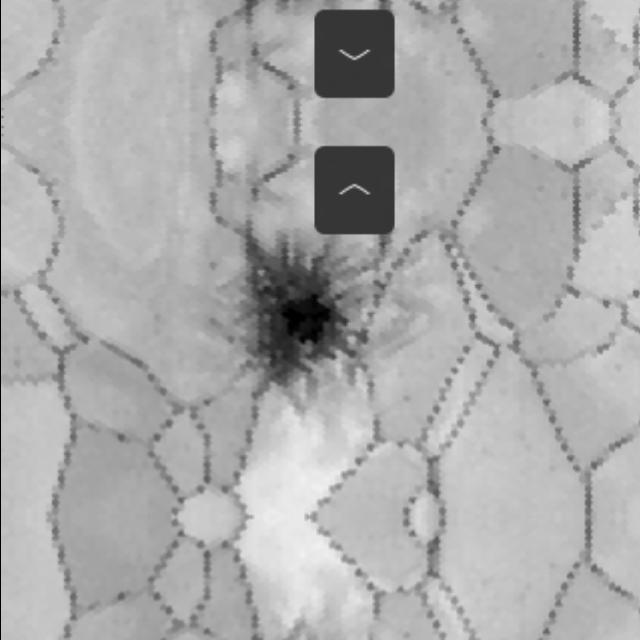good_void: (161, 181, 422, 442), (397, 391, 413, 409), (399, 628, 413, 640)
